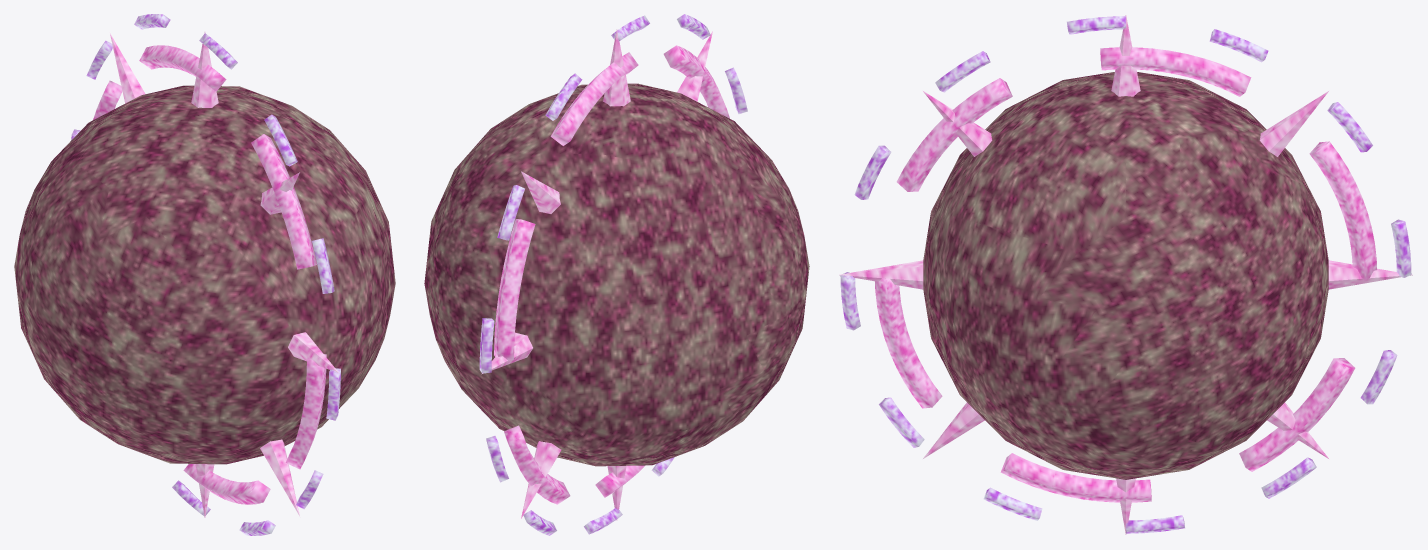
Rendered from boss_beam_muzzle.glb.
3 views of the same model, side by side, from view 1: azimuth 30°, elevation 25°; view 2: azimuth 150°, elevation 25°; view 3: azimuth 270°, elevation 25° (orthographic). The views are drawn at different scales.
Parts seen in each view (by area): view 1: muzzle_shell, muzzle_ring_a, muzzle_ring_b, muzzle_flare; view 2: muzzle_shell, muzzle_ring_a, muzzle_ring_b, muzzle_flare; view 3: muzzle_shell, muzzle_ring_a, muzzle_ring_b, muzzle_flare.
Boxes of the visible parts, bbox=[...] form: muzzle_shell: bbox=[14, 85, 395, 464]; muzzle_ring_a: bbox=[93, 45, 326, 504]; muzzle_ring_b: bbox=[71, 14, 340, 535]; muzzle_flare: bbox=[110, 32, 339, 517]; muzzle_shell: bbox=[424, 83, 809, 466]; muzzle_ring_a: bbox=[494, 45, 729, 504]; muzzle_ring_b: bbox=[479, 14, 747, 535]; muzzle_flare: bbox=[481, 29, 712, 520]; muzzle_shell: bbox=[923, 72, 1328, 479]; muzzle_ring_a: bbox=[875, 47, 1377, 502]; muzzle_ring_b: bbox=[840, 16, 1411, 533]; muzzle_flare: bbox=[839, 15, 1412, 534].
Size of the model in its own units: 8.4 by 11.8 by 11.8.
Materials: 5 (5 with a texture image).
